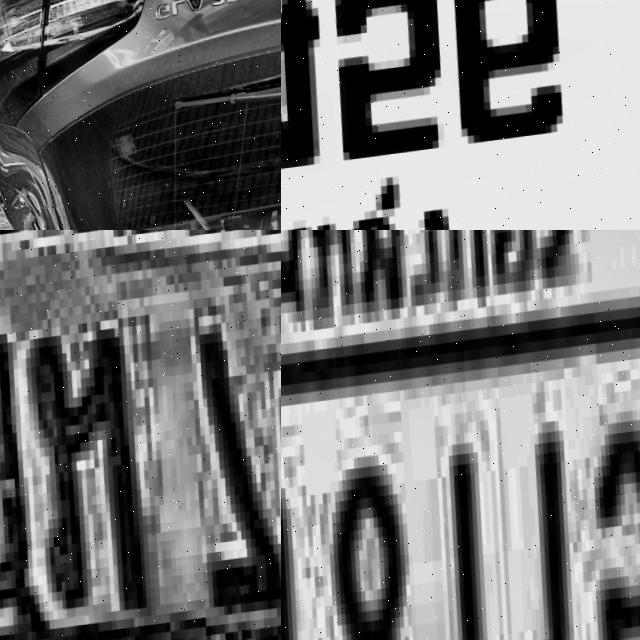license-plate: (281, 230, 640, 640), (0, 230, 281, 640), (281, 0, 640, 230)
